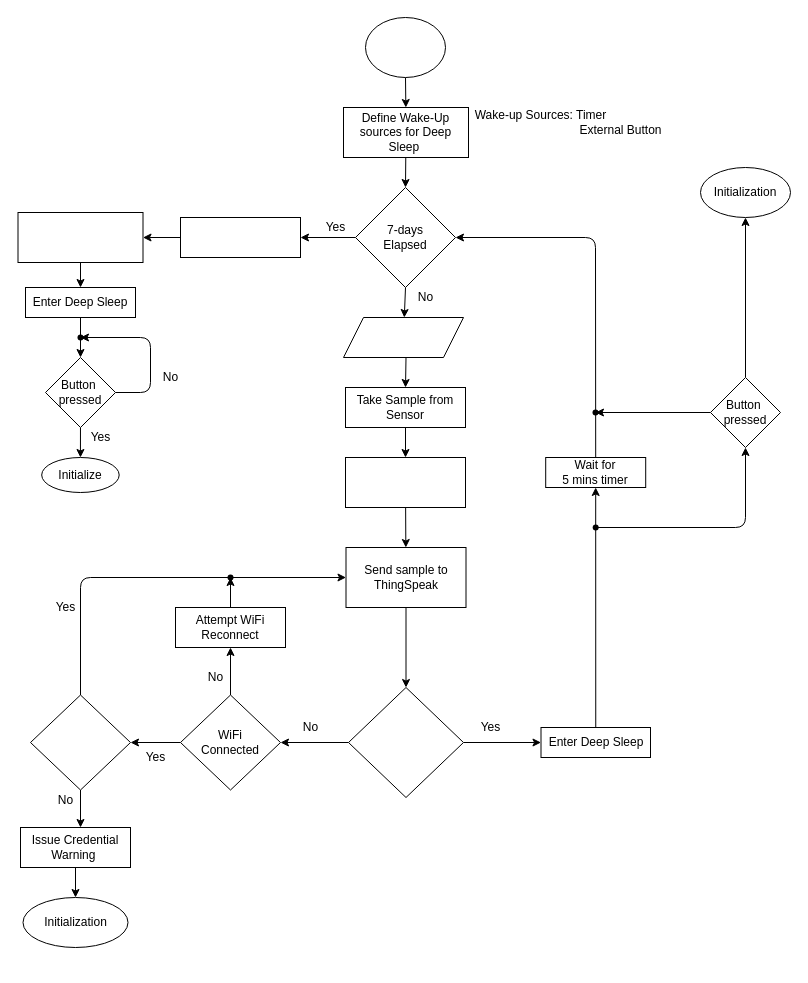
Some shapes in this 808 by 983 pixel diagram are drawn without their labels. The shapes that lost their labels are listed below. From the top down, each one's centre as x and y in pixels, then its label:
the point at 405,47: Sampling
the point at 80,237: Redefine Wake-Up sources for Deep Sleep (External Button)
the point at 240,237: Notify User sampling complete
the point at 403,337: Initialize SCD41 Sensor
the point at 405,482: Send sample to flash memory
the point at 80,742: ThingSpeak Connected
the point at 406,742: Successfully uploaded to ThingSpeak
